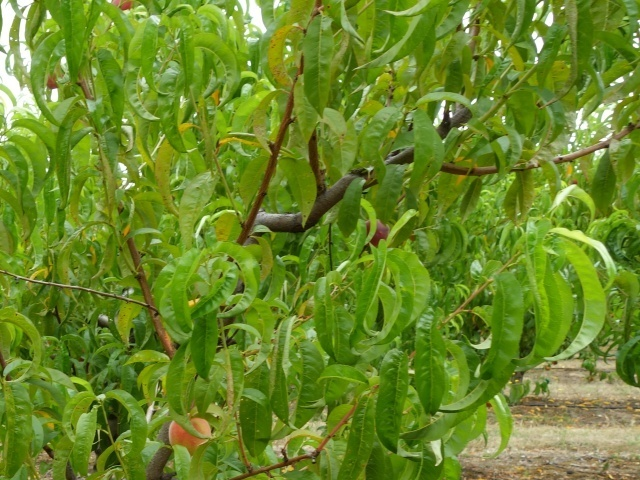peach: (163, 413, 213, 455), (360, 215, 394, 249), (37, 70, 65, 92), (107, 1, 135, 15)
